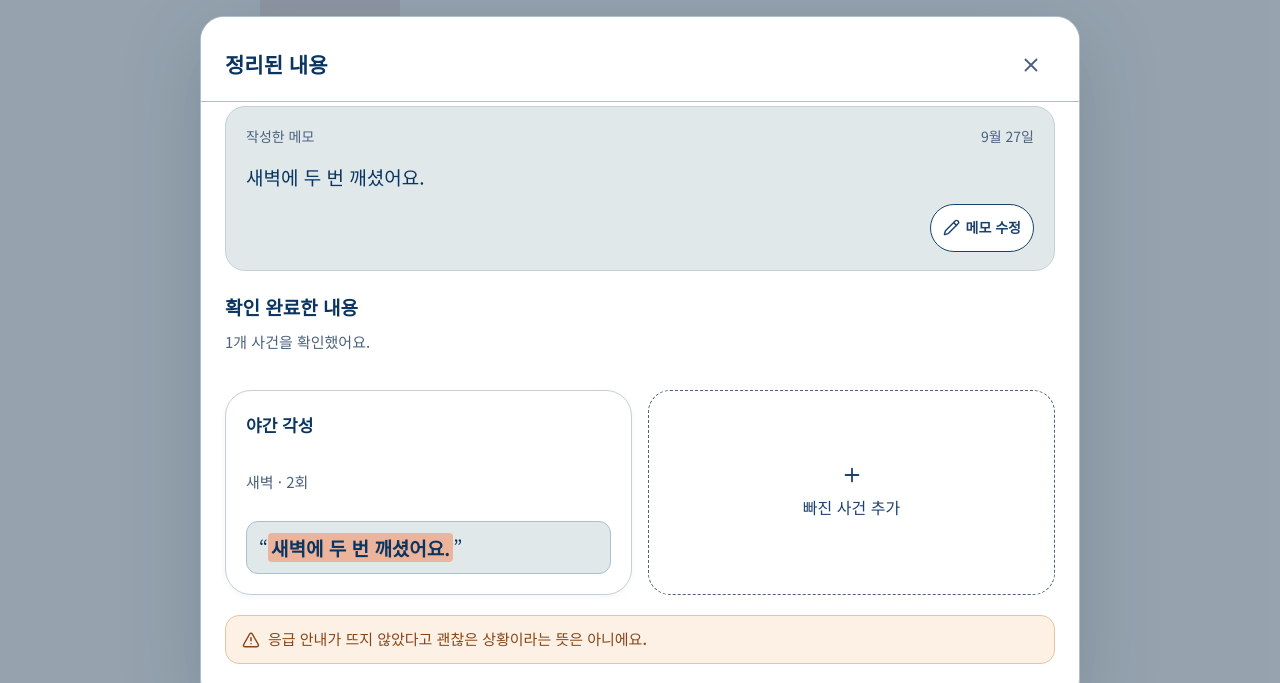
Test: 저장 응답 실패 시 수정 원문을 유지하고 같은 요청 번호로 다시 저장한다
Click the button "메모 수정". click: (982, 228)
box: [930,204,1034,252]
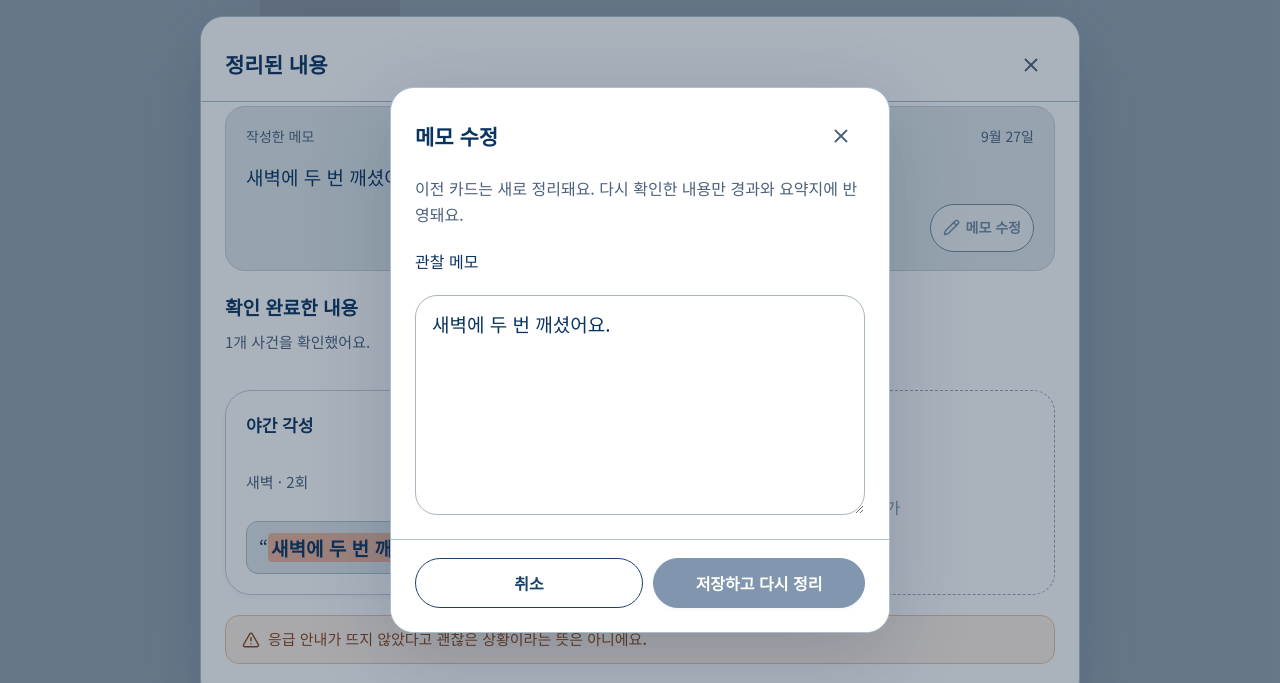
Replace the text in the text box labelled "관찰 메모" with "저녁에 불안해하셨어요.". click: (640, 405)
box: [415,295,865,515]
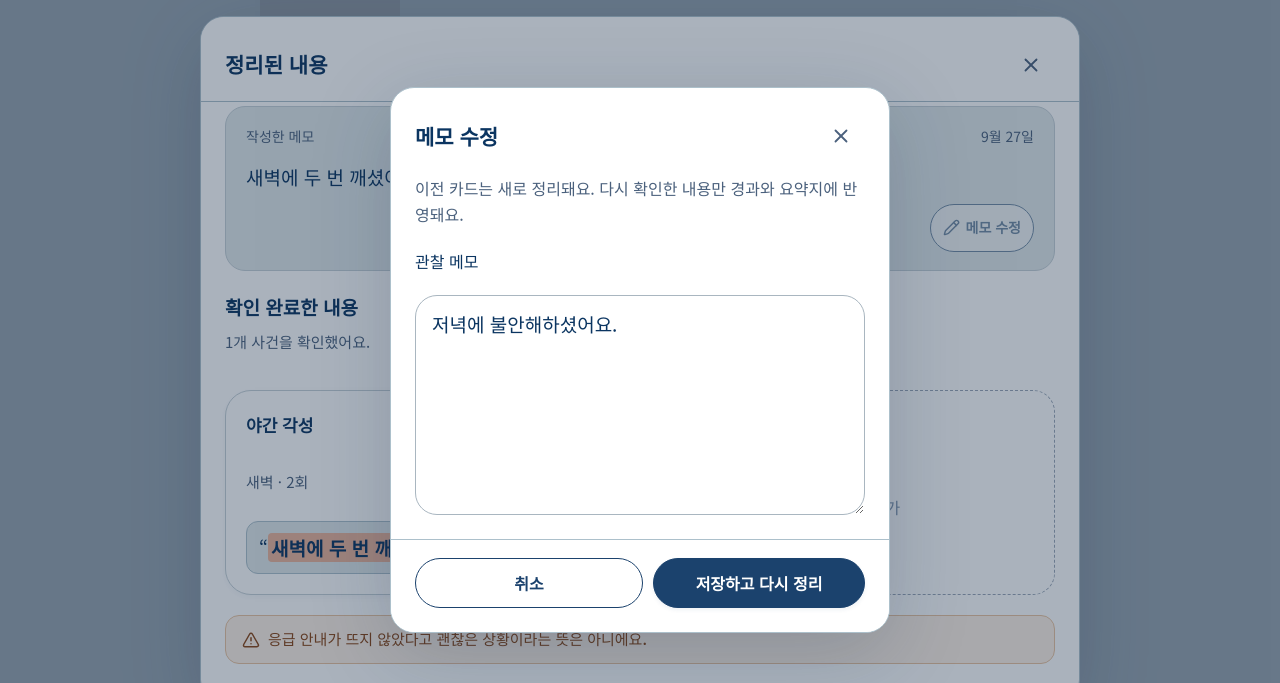
Click the button "저장하고 다시 정리". click: (759, 583)
box: [653,558,865,608]
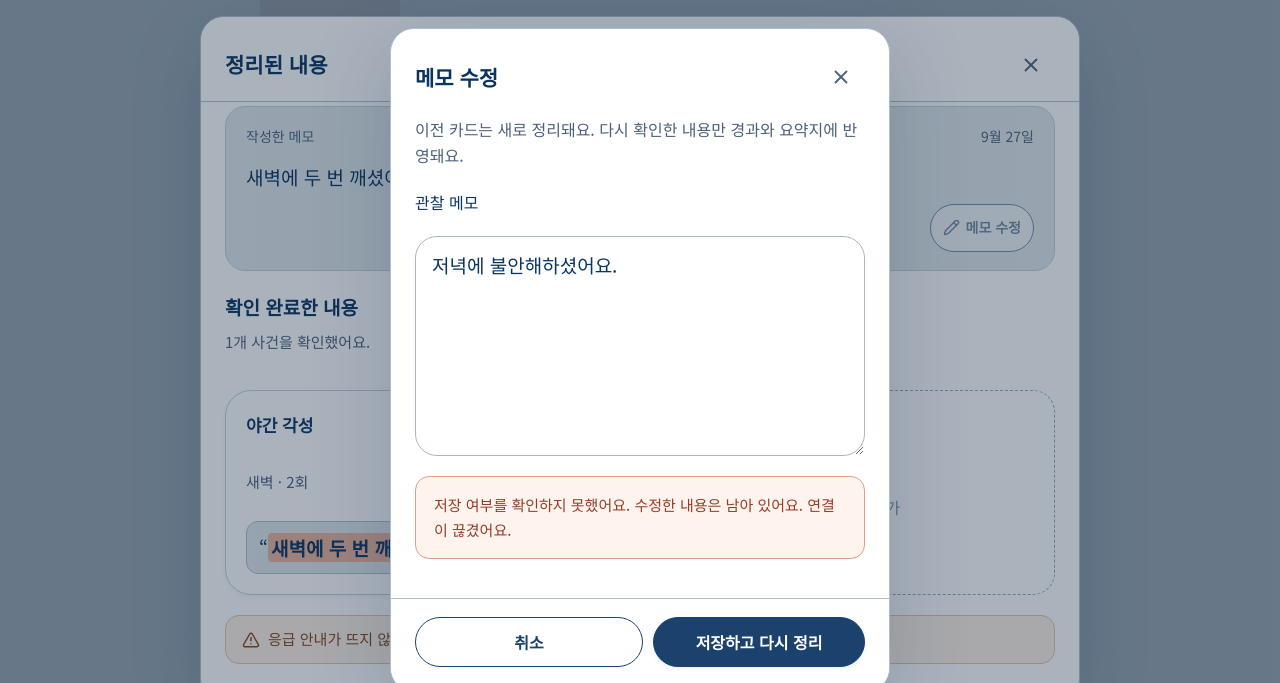
expect the message shows "수정한 내용은 남아 있어요.": met, box [434,494,835,540]
Click the button "저장하고 다시 정리". click: (759, 642)
box: [653,617,865,667]
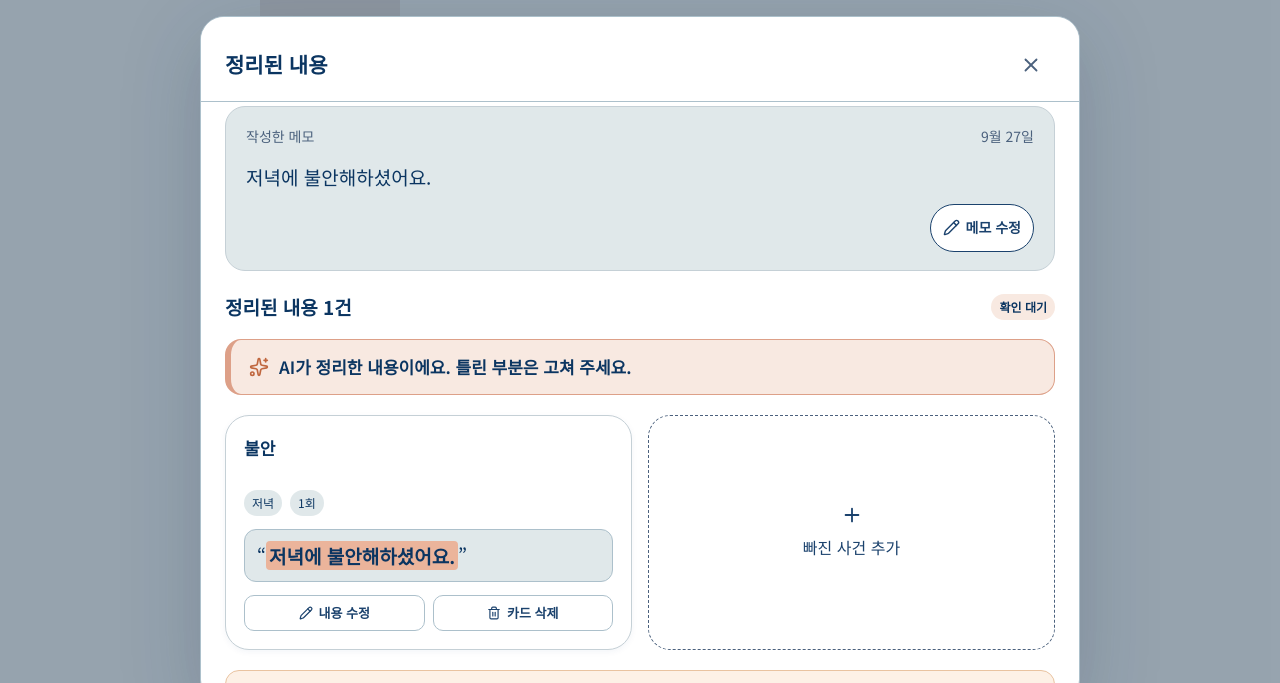
expect the element named "1번 불안" is shown: met, box [225,415,632,650]
